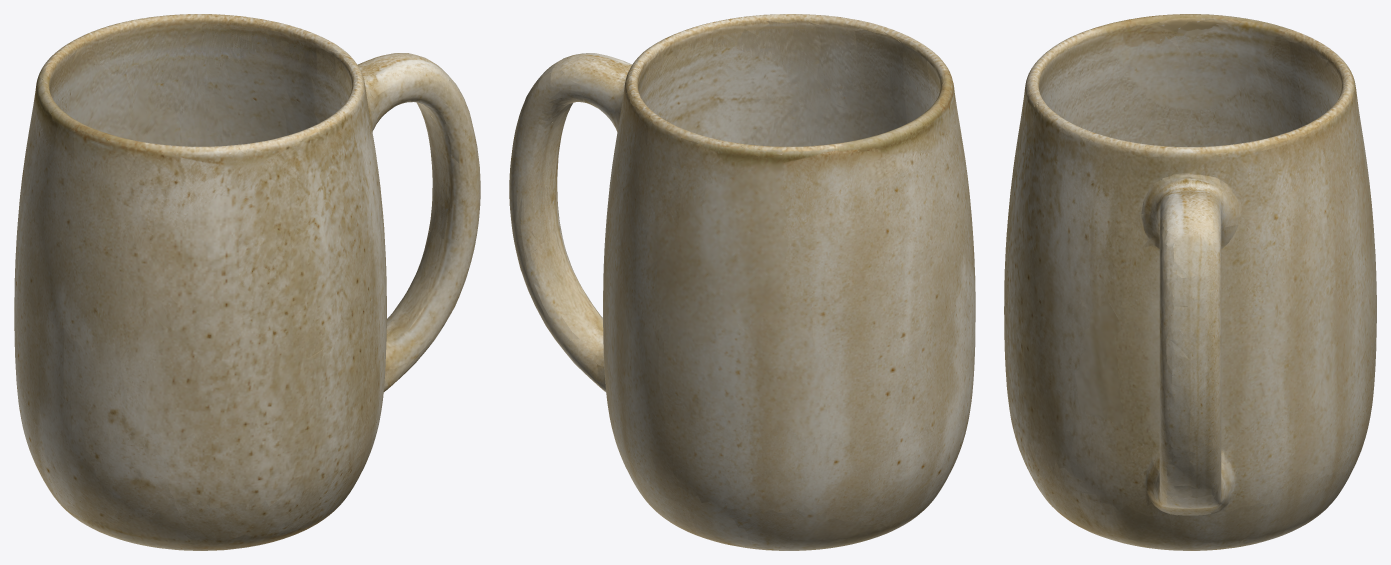
3 views of the same model, side by side, from view 1: azimuth 30°, elevation 25°; view 2: azimuth 150°, elevation 25°; view 3: azimuth 270°, elevation 25° (orthographic).
Size of the model in its own units: 1.9 by 1.77 by 1.41.
1 material, 1 textured.
